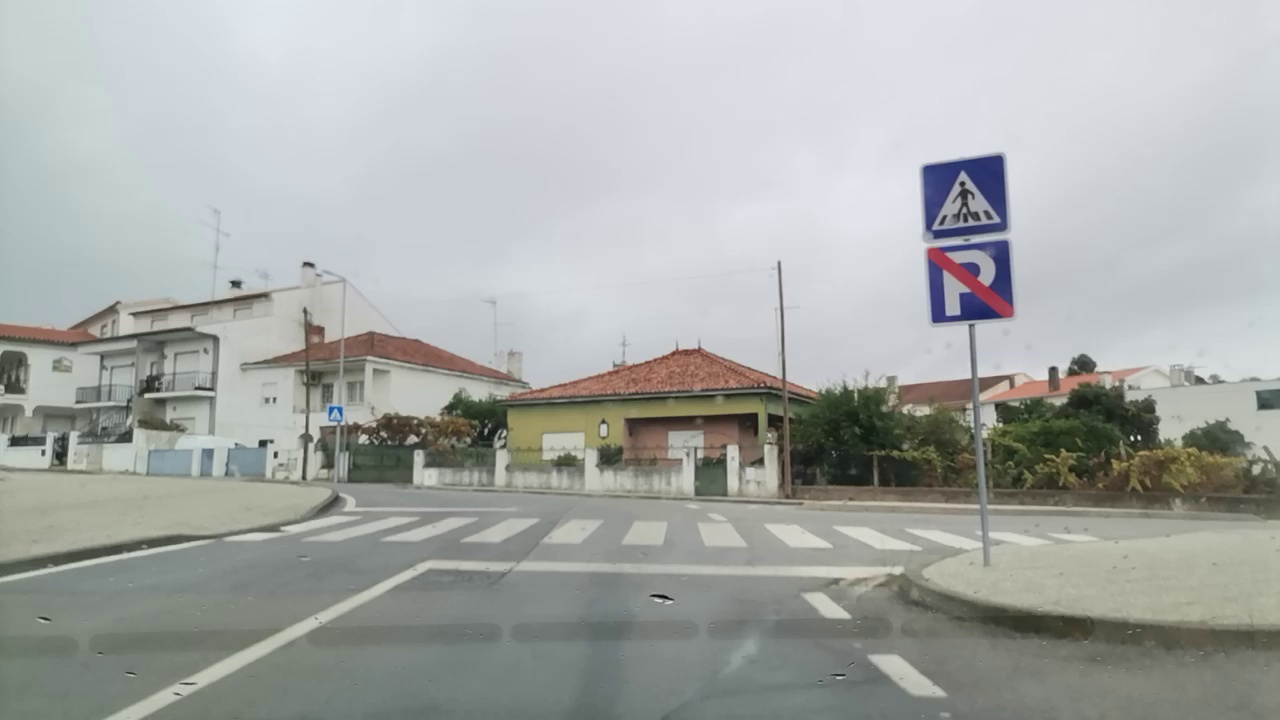Stairs: (230, 512, 1095, 547)
